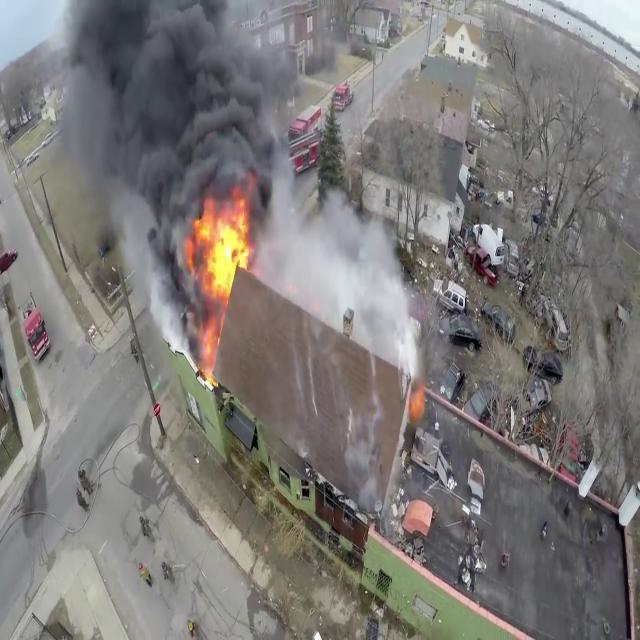Fire: (185, 190, 257, 304)
Smoke: (48, 0, 297, 208), (266, 172, 424, 376)
